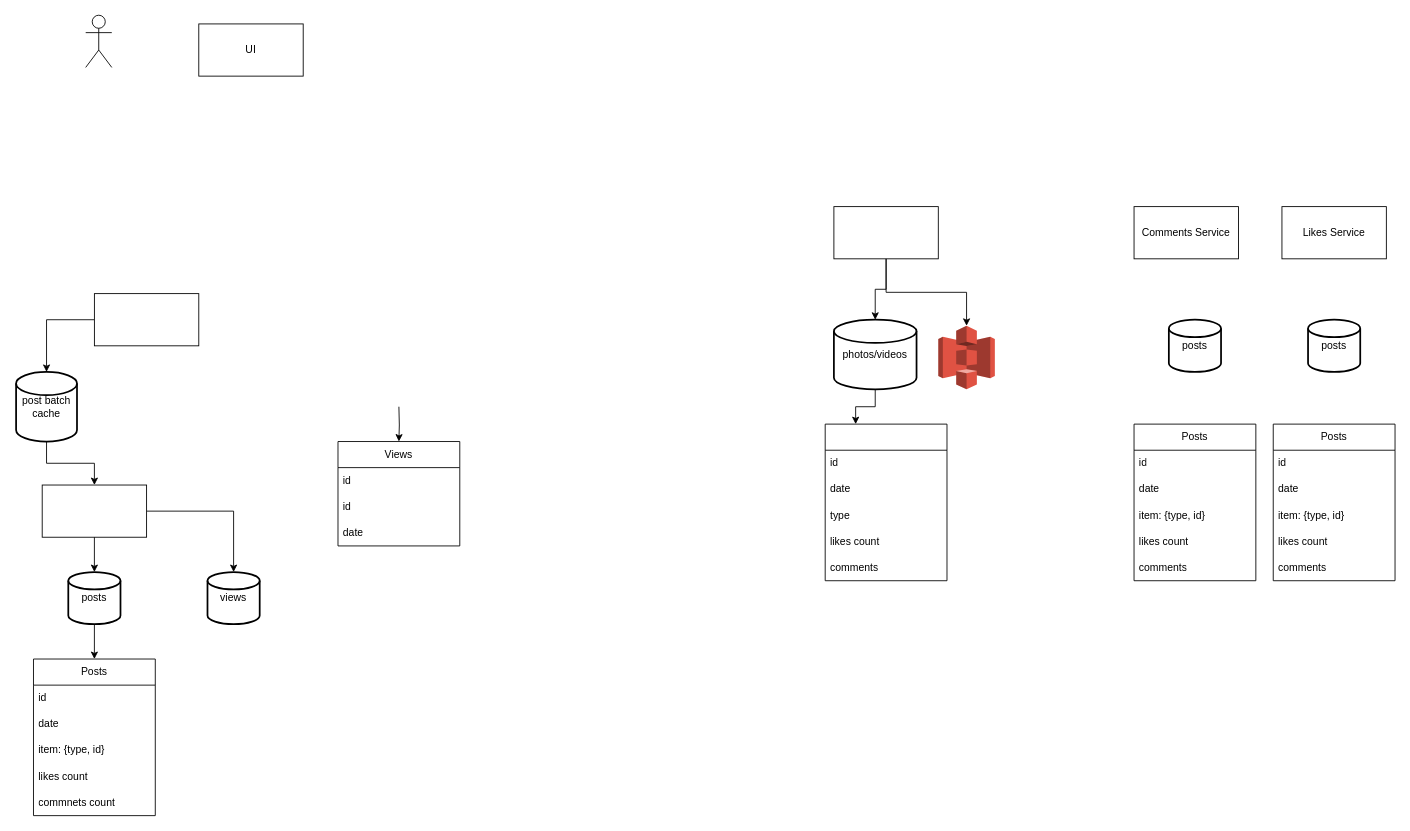
Image size: 1410x831. Some labels were removed from this diagram. The shapes that lost their labels are listed below. From the top down, each one's box as (x1, y1, x2, y2) in pixels, then its label:
(85, 14, 112, 67): Actor
(833, 206, 938, 259): Photos Service
(94, 293, 199, 346): Next Posts Batch
(41, 484, 147, 537): Posts Service
(824, 423, 947, 581): photos
